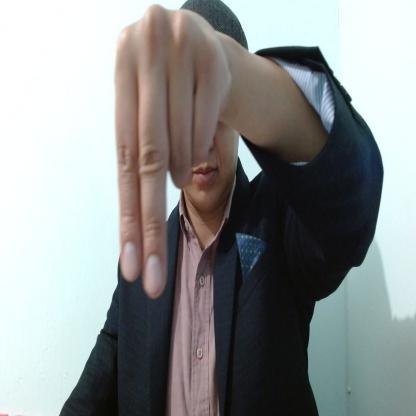N: (114, 5, 234, 298)
